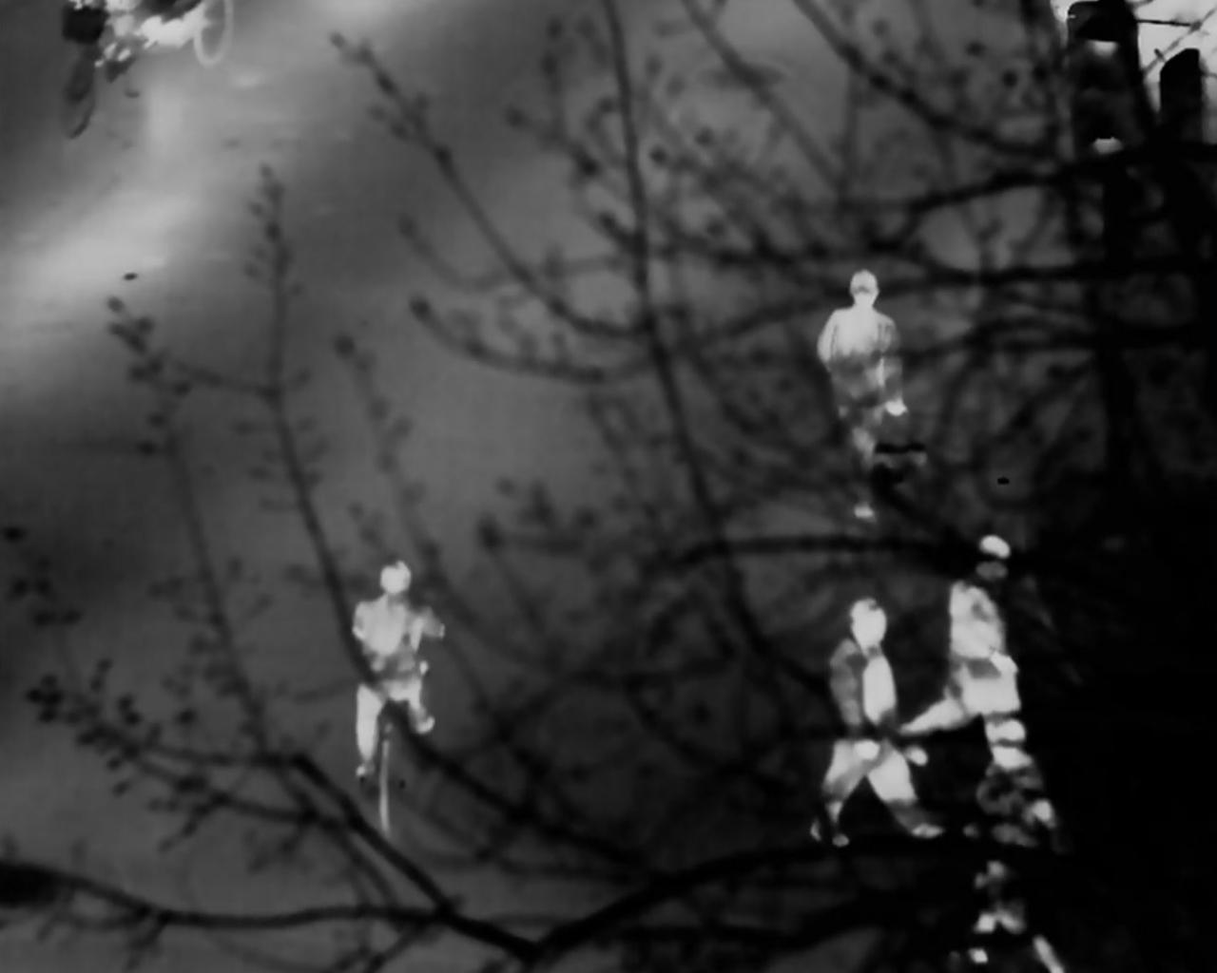person: (336, 560, 454, 765), (812, 268, 914, 500), (941, 533, 1032, 792), (814, 599, 905, 844)
